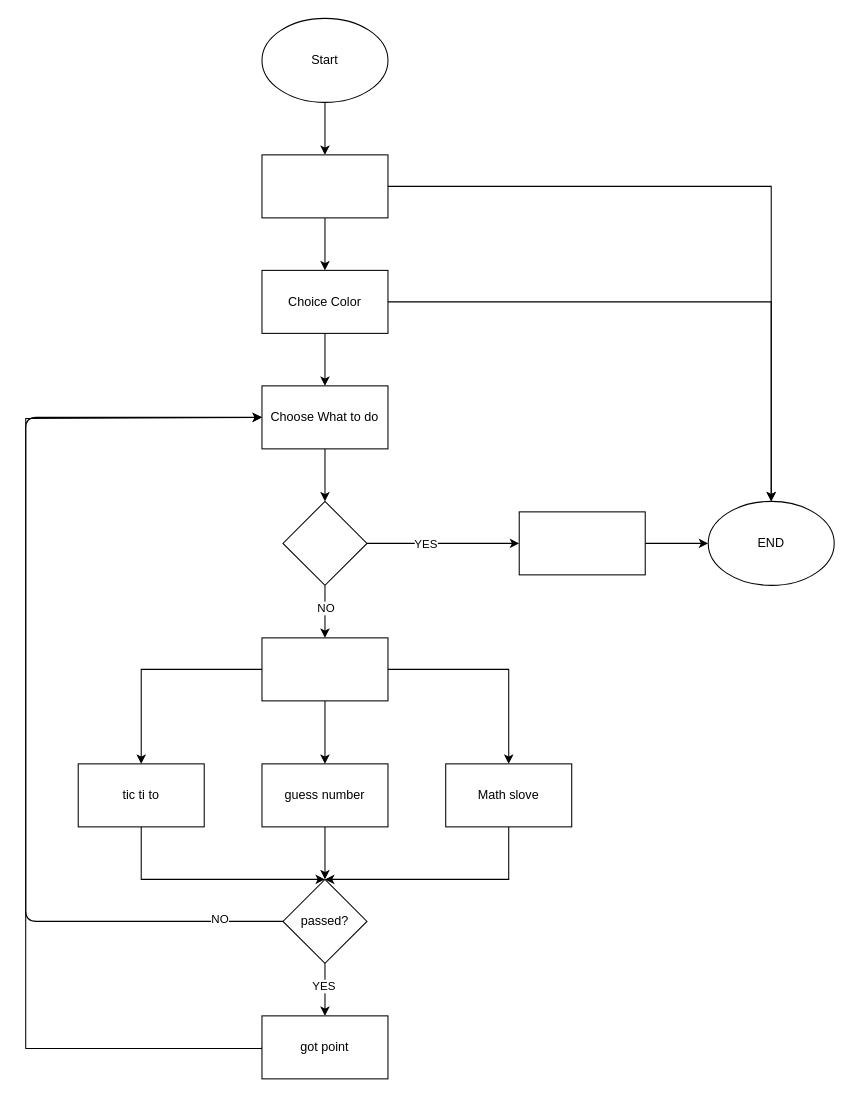
This 853x1097 diagram has some shape labels left out. The centre of each missing label's shape, as x and y in pixels:
"Choice Taste" belongs at point (324, 186).
"Farm point play game choose game" belongs at point (324, 669).
"Point enough?" belongs at point (324, 542).
"Try Eat fun" belongs at point (581, 543).
